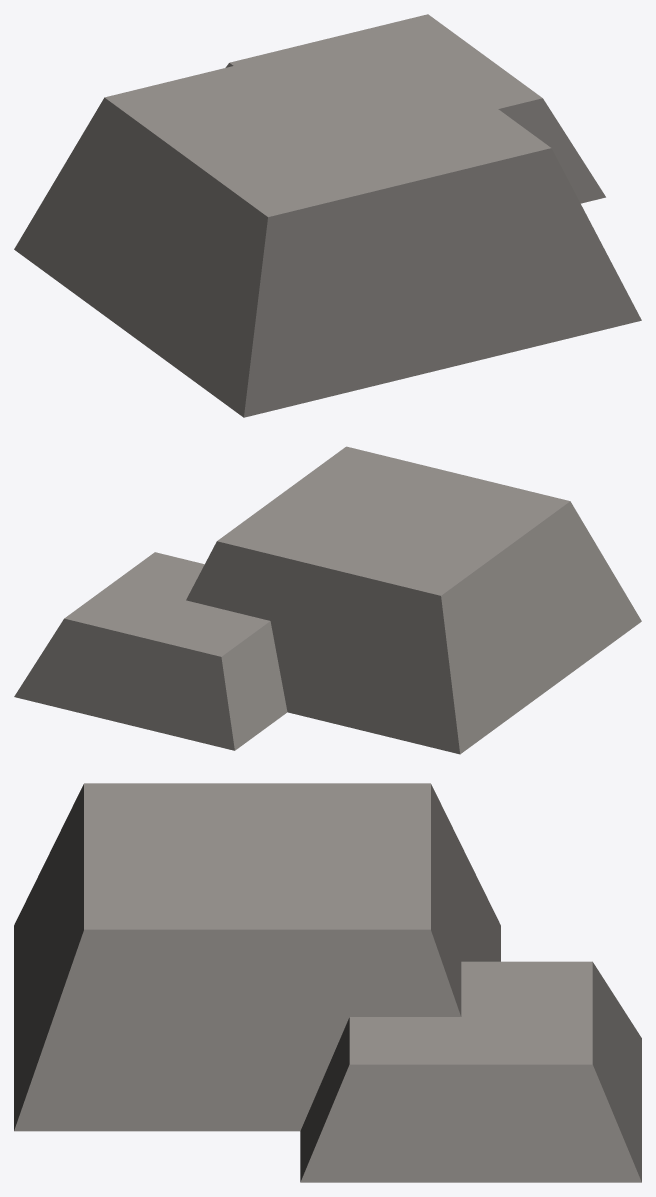
File: SM_Env_Rocks_02.fbx
The picture shows the model from 3 angles, top to bottom: view 1: azimuth 30°, elevation 25°; view 2: azimuth 150°, elevation 25°; view 3: azimuth 270°, elevation 25°; orthographic projection. The views are drawn at different scales.
Visible parts, largest first — view 1: SM_Env_Rocks_02; view 2: SM_Env_Rocks_02; view 3: SM_Env_Rocks_02.
Part boxes in pixels (x1=…): SM_Env_Rocks_02: x1=14, y1=14, x2=641, y2=417; SM_Env_Rocks_02: x1=14, y1=446, x2=641, y2=754; SM_Env_Rocks_02: x1=14, y1=783, x2=641, y2=1182.
Bounding box in the file's own units: 1 × 0.3117 × 1.03.
